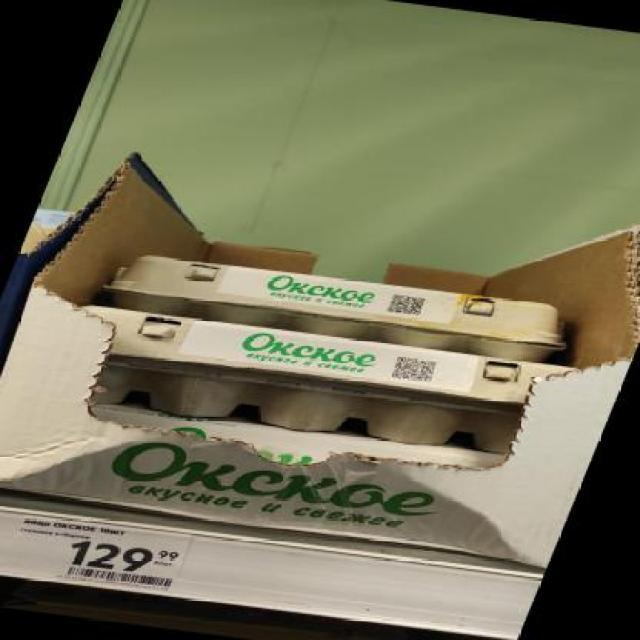egg: (48, 305, 584, 460), (103, 248, 582, 366)
